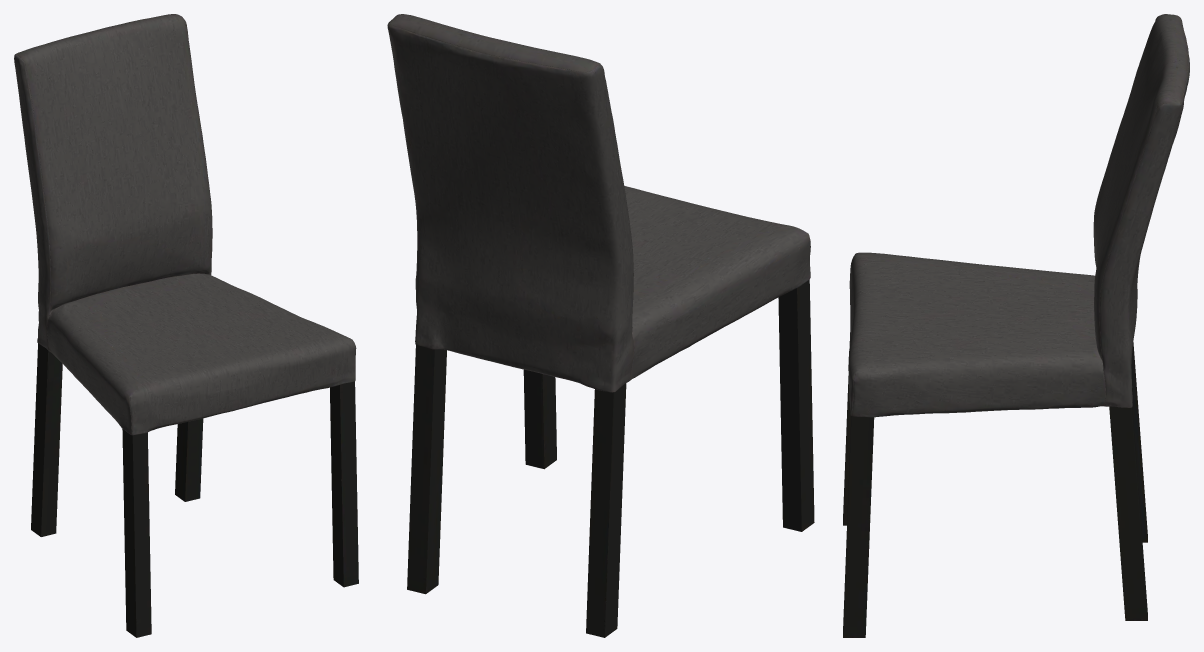
3 views of the same model, side by side, from view 1: azimuth 30°, elevation 25°; view 2: azimuth 150°, elevation 25°; view 3: azimuth 270°, elevation 25° (orthographic). The views are drawn at different scales.
Parts seen in each view (by area): view 1: Mesh_2; view 2: Mesh_2; view 3: Mesh_2.
Part boxes in pixels (box(x1,y1,x2,y2)): Mesh_2: box(14, 14, 358, 637); Mesh_2: box(387, 14, 814, 637); Mesh_2: box(843, 14, 1189, 637).
Bounding box in the file's own units: 0.4523 × 0.8905 × 0.5352.
2 materials, 2 textured.
